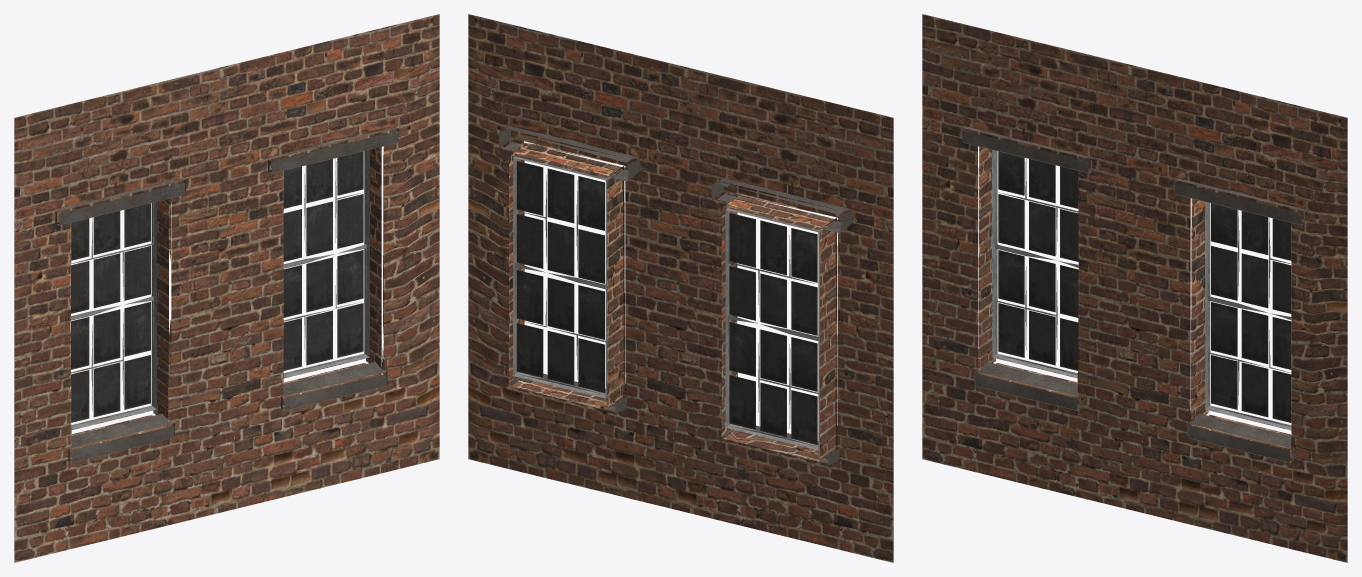
File: bay_window_b_lo.gltf
3 views of the same model, side by side, from view 1: azimuth 30°, elevation 25°; view 2: azimuth 150°, elevation 25°; view 3: azimuth 330°, elevation 25° (orthographic).
Visible parts, largest first — view 1: bay_window_b_lo; view 2: bay_window_b_lo; view 3: bay_window_b_lo.
Boxes of the visible parts, x1,y1,x2,y2 form: bay_window_b_lo: (14,14,439,562); bay_window_b_lo: (468,14,893,562); bay_window_b_lo: (922,14,1347,562).
Bounding box in the file's own units: 3 × 3 × 0.23.
3 materials, 3 textured.
